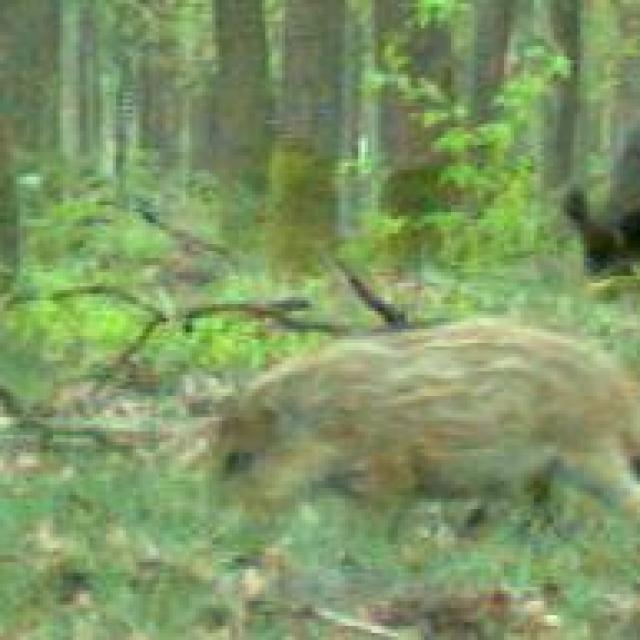pig: (184, 308, 640, 535)
